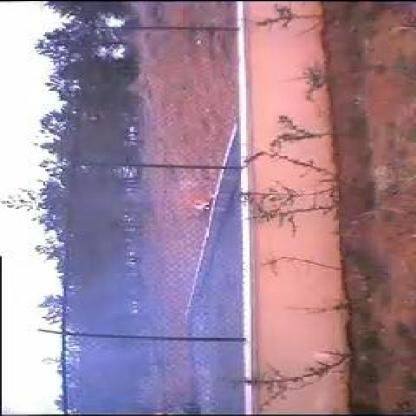-: (90, 211, 224, 357)
